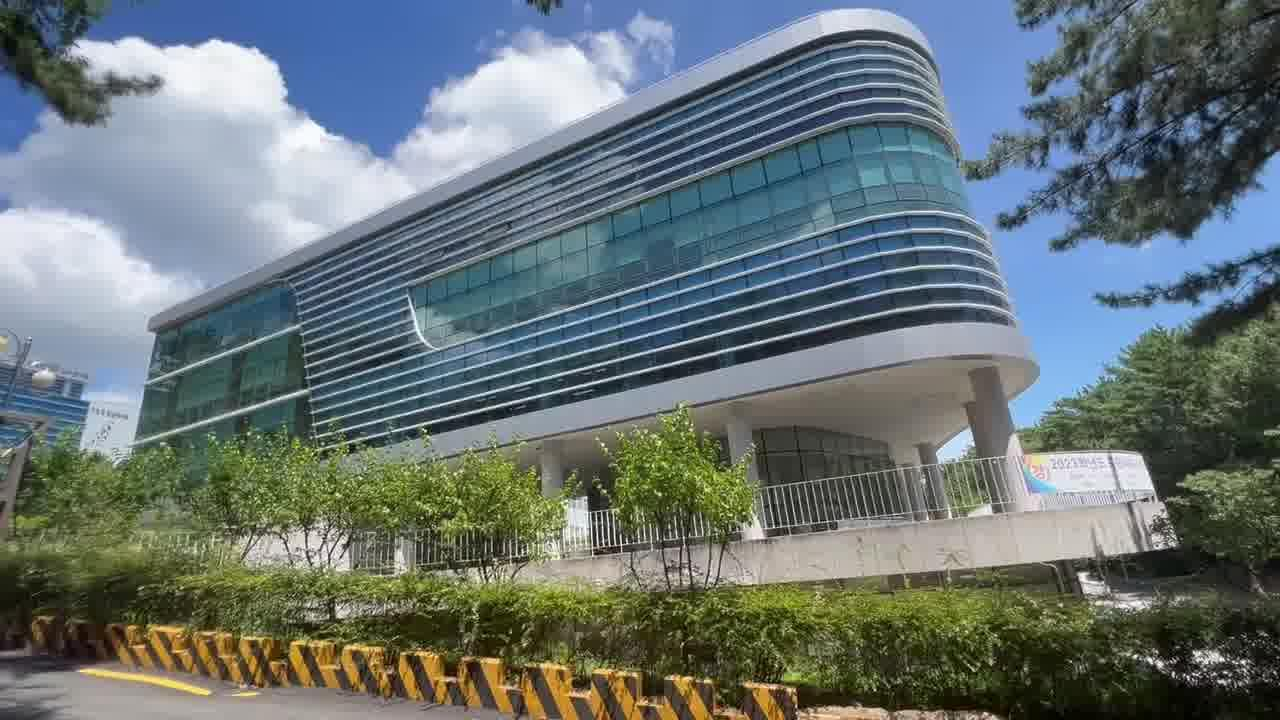building: (157, 19, 1036, 469)
